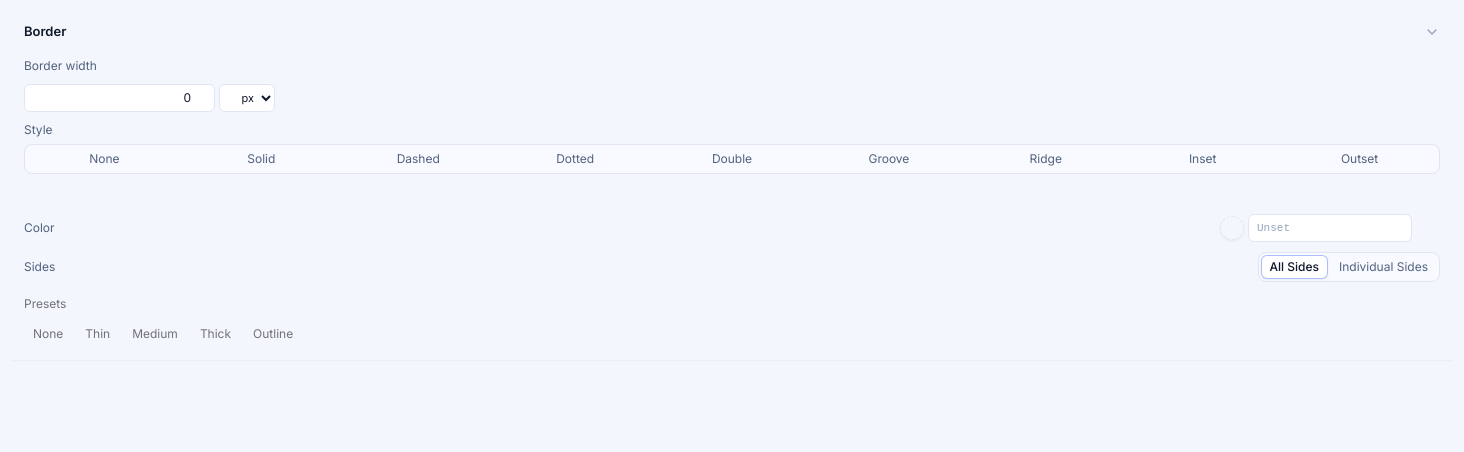
Test case: InspectorBorderSection › switching to Individual Sides reveals the visual side selector
Click the button "Individual Sides" at point(1384, 266), box x1=1330 y1=254 x2=1437 y2=278
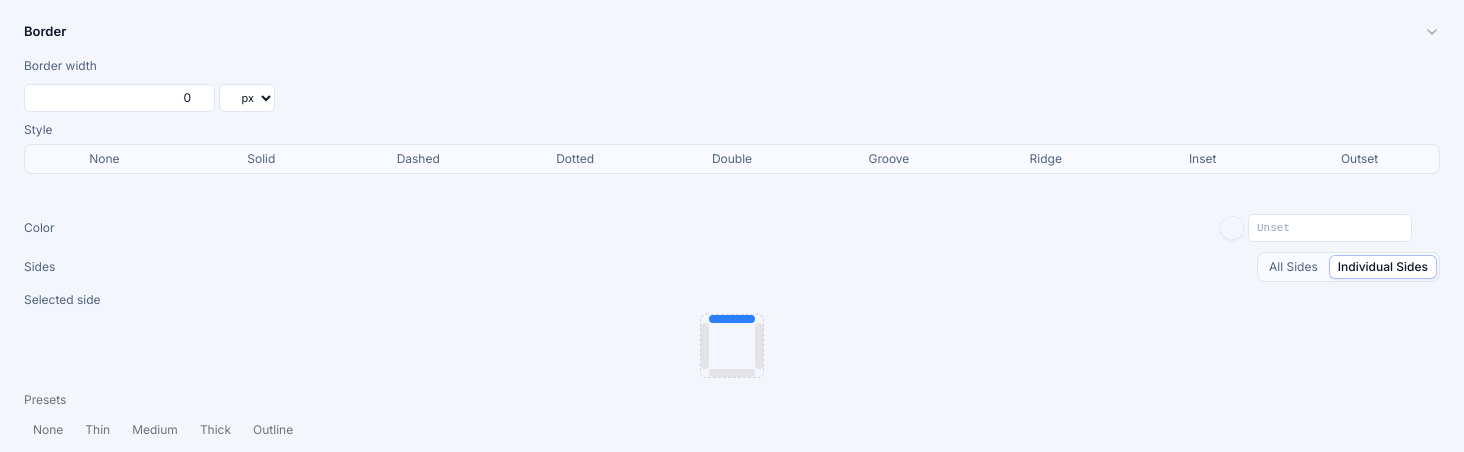
Check: the element named "Border side" is shown, box x1=700 y1=314 x2=764 y2=378
